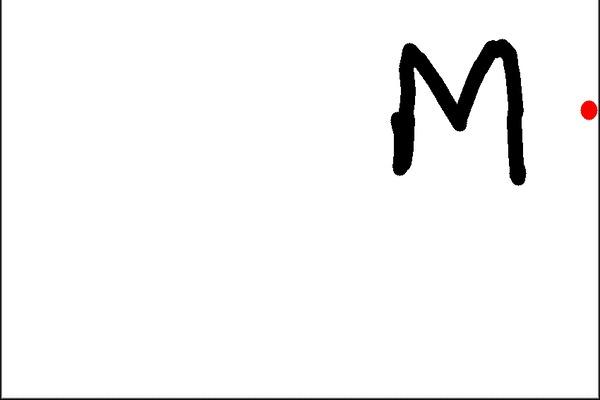M: (389, 35, 529, 187)
